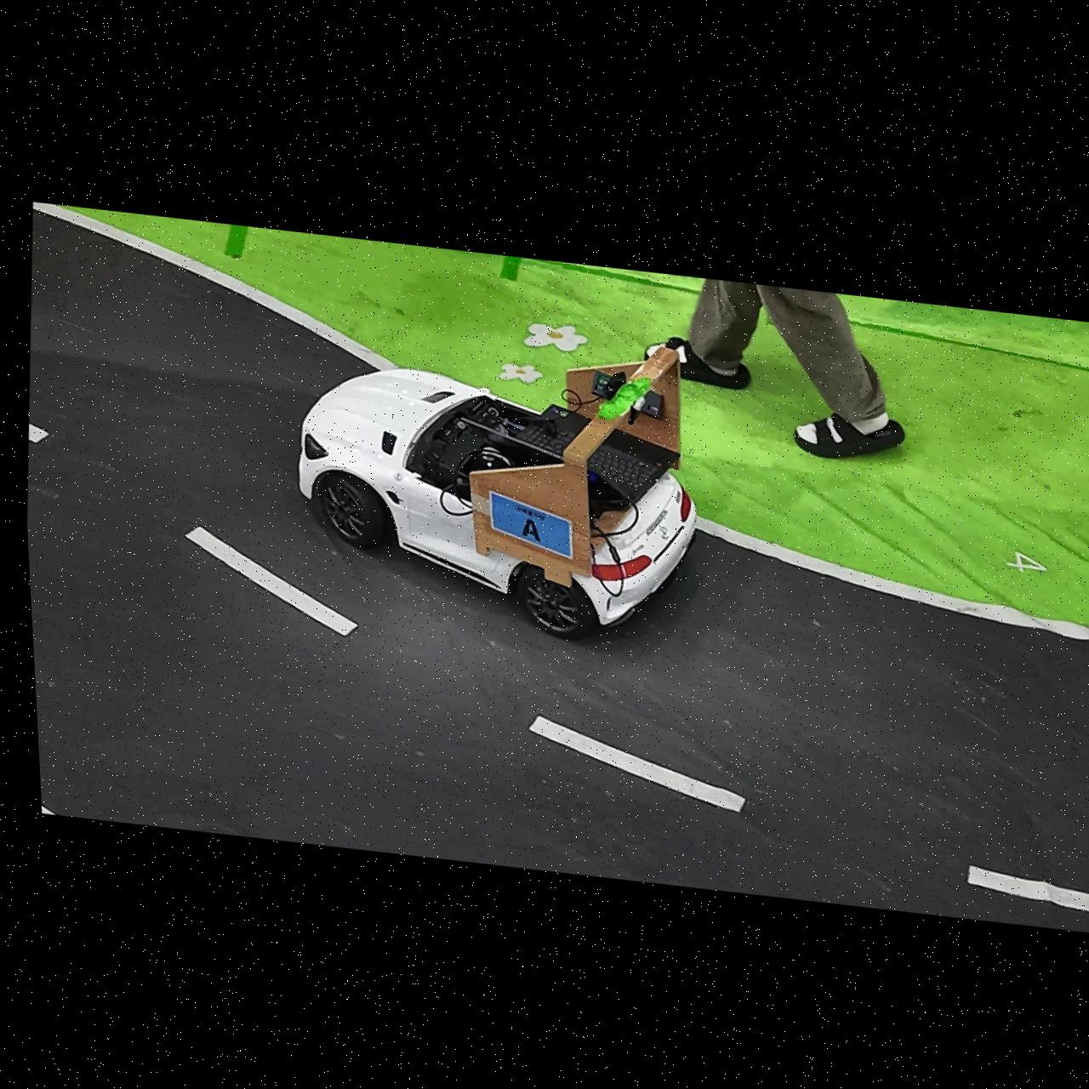broken_line: (529, 716, 745, 812), (186, 527, 357, 635), (968, 866, 1089, 912), (29, 424, 48, 442)
